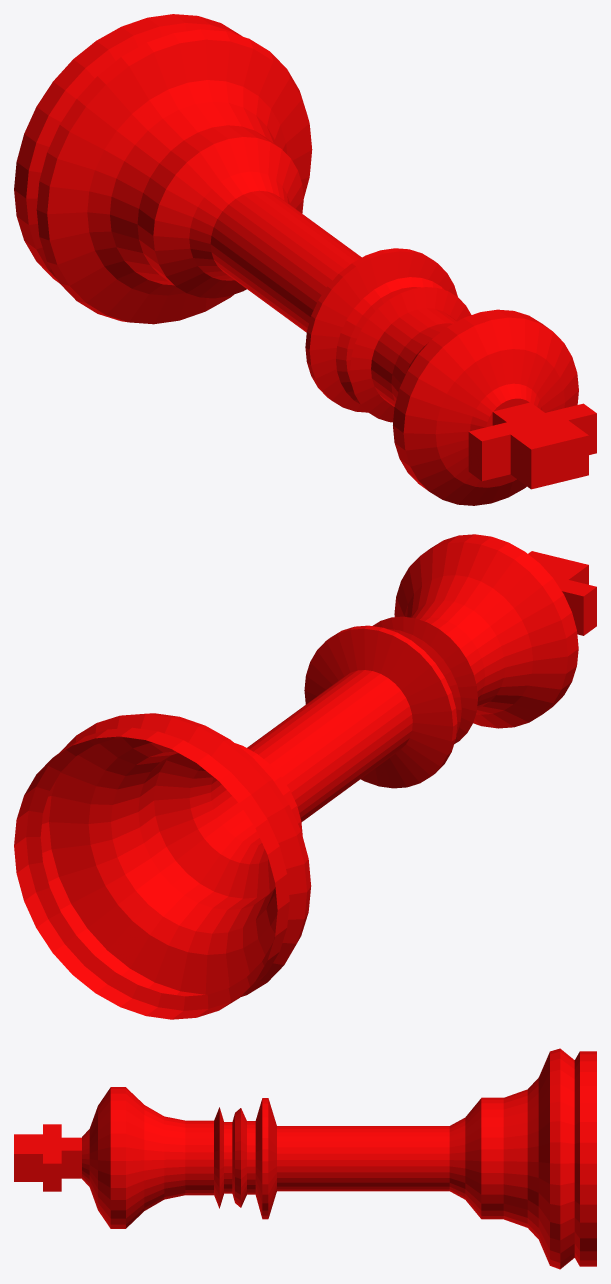
File: reiP.obj
3 views of the same model, one above another, from view 1: azimuth 30°, elevation 25°; view 2: azimuth 150°, elevation 25°; view 3: azimuth 270°, elevation 25° (orthographic). The views are drawn at different scales.
Parts seen in each view (by area): view 1: Circle.002; view 2: Circle.002; view 3: Circle.002.
Part boxes in pixels (x1,y1,x2,y2): Circle.002: [14, 14, 596, 505]; Circle.002: [14, 534, 596, 1019]; Circle.002: [14, 1048, 596, 1269].
Bounding box in the file's own units: 1.42 × 1.42 × 3.74.
